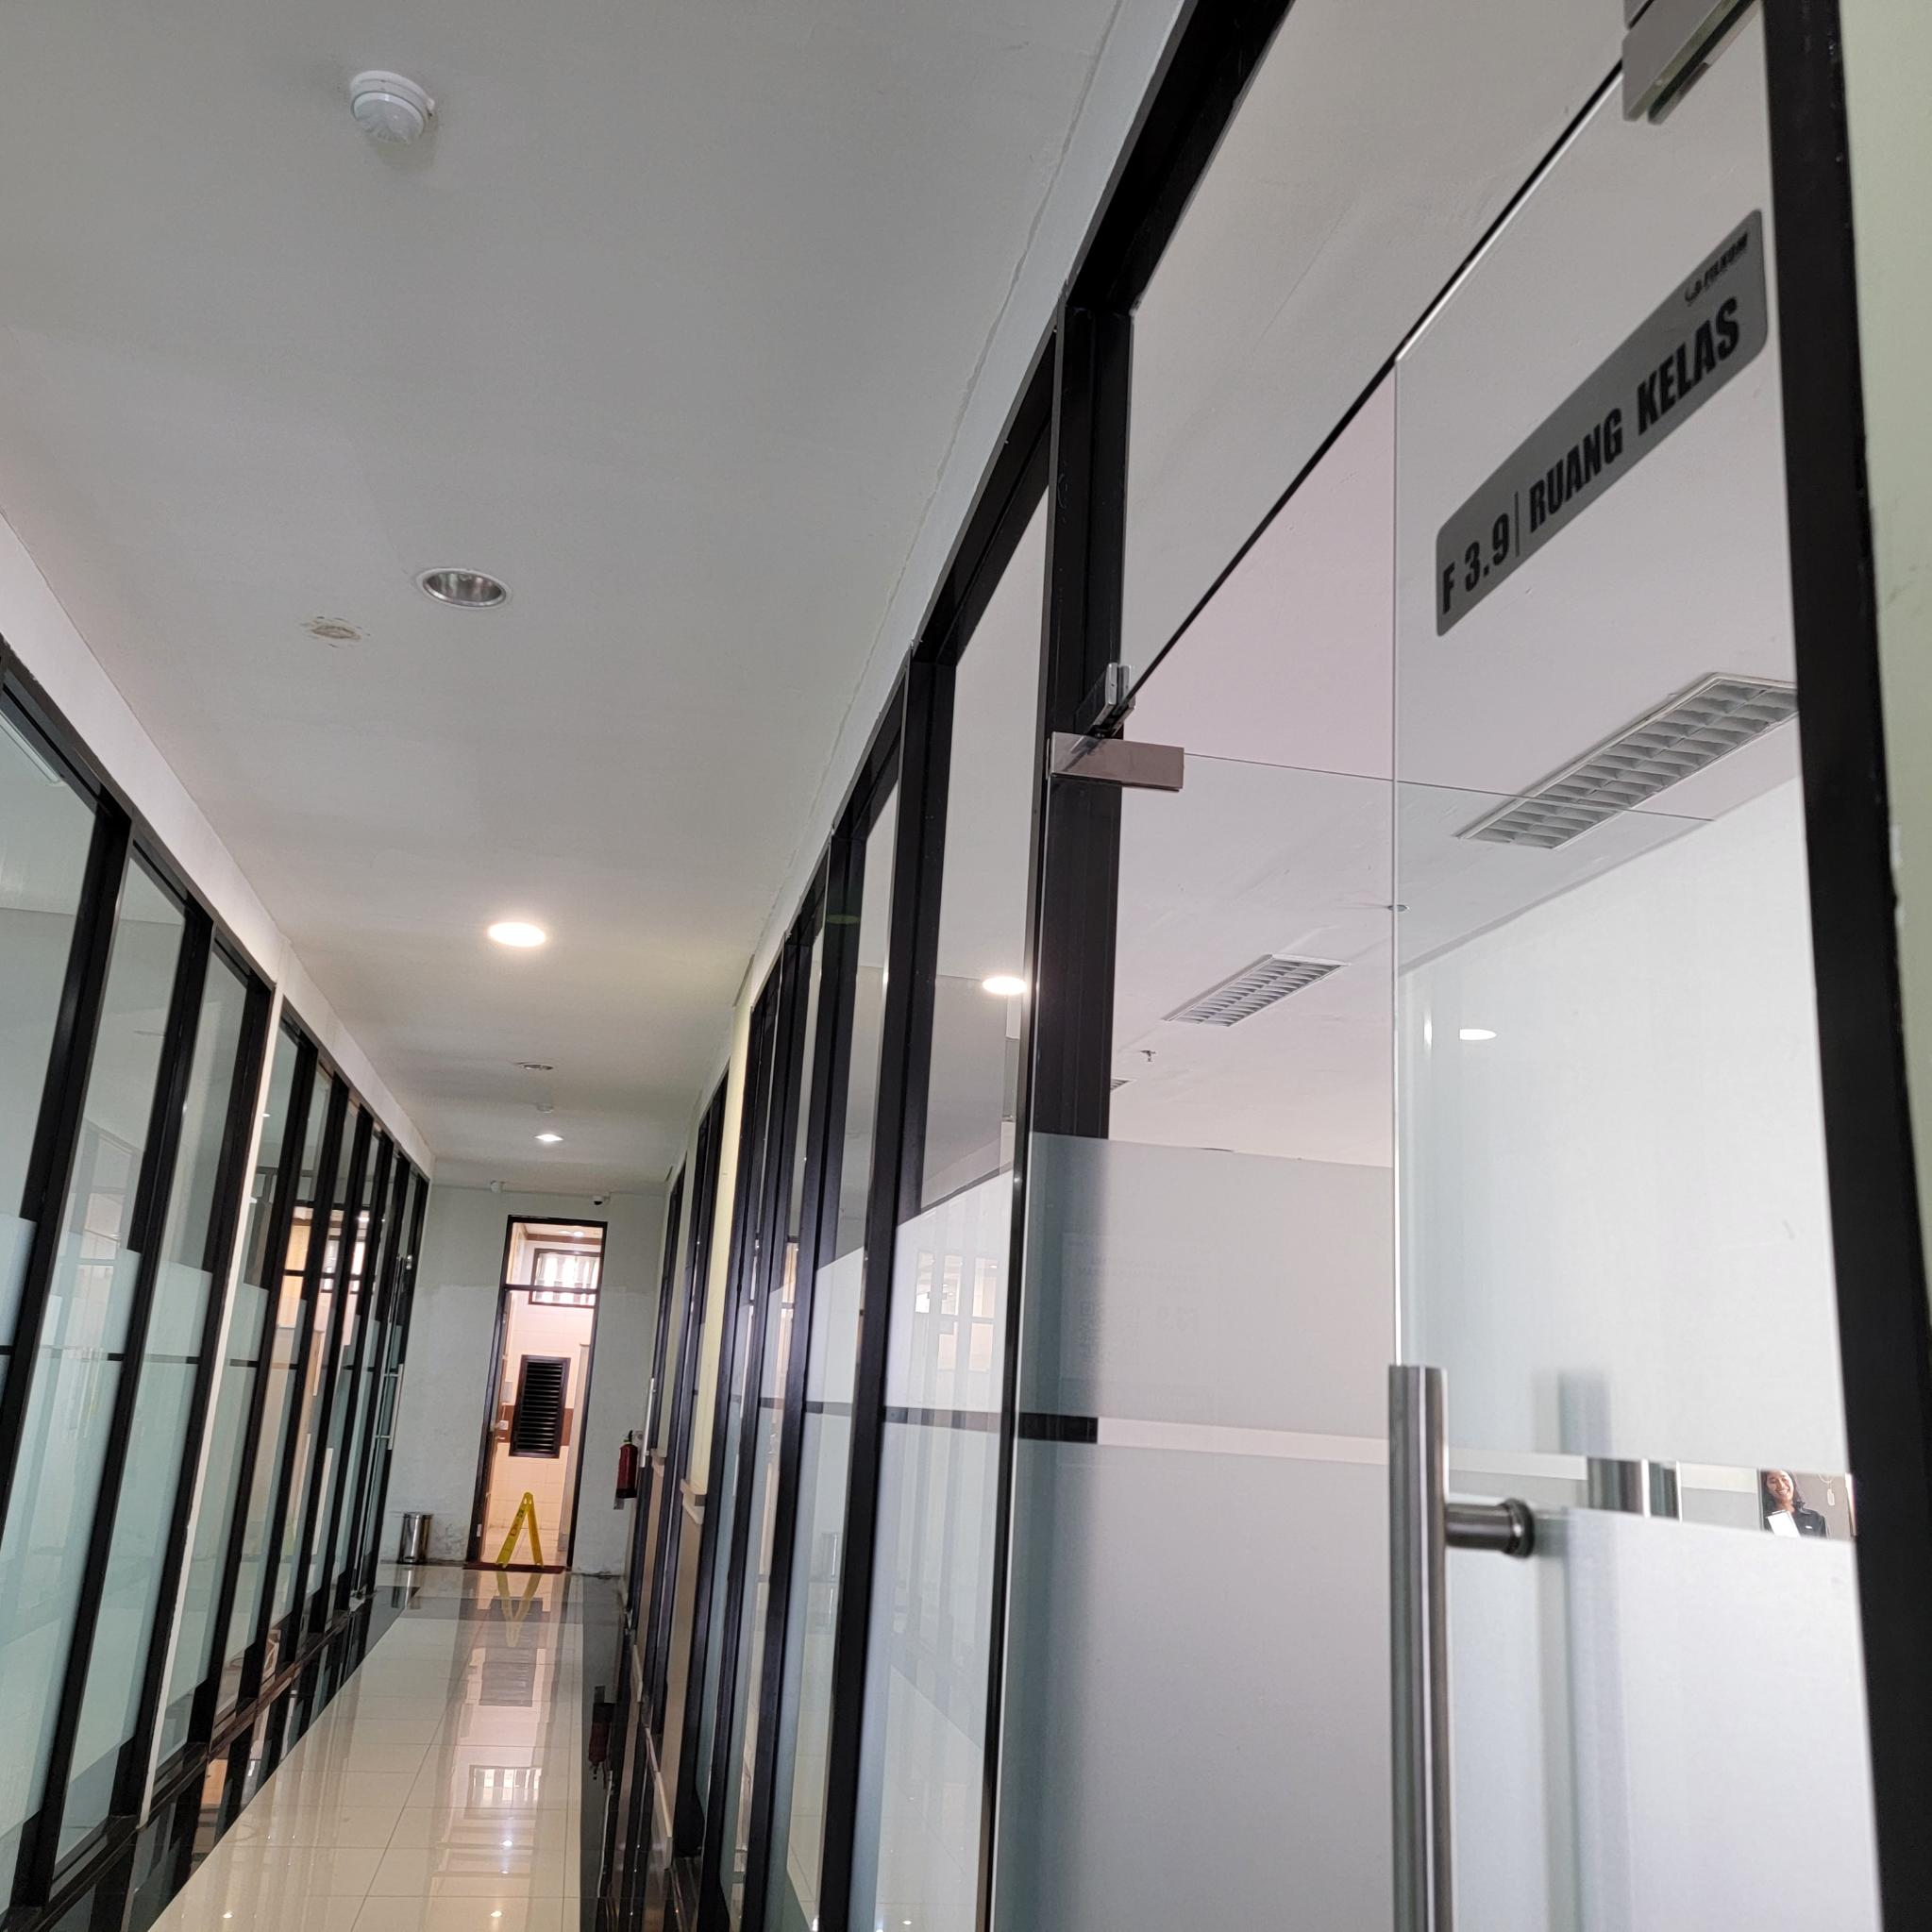plate: (1435, 209, 1769, 639)
